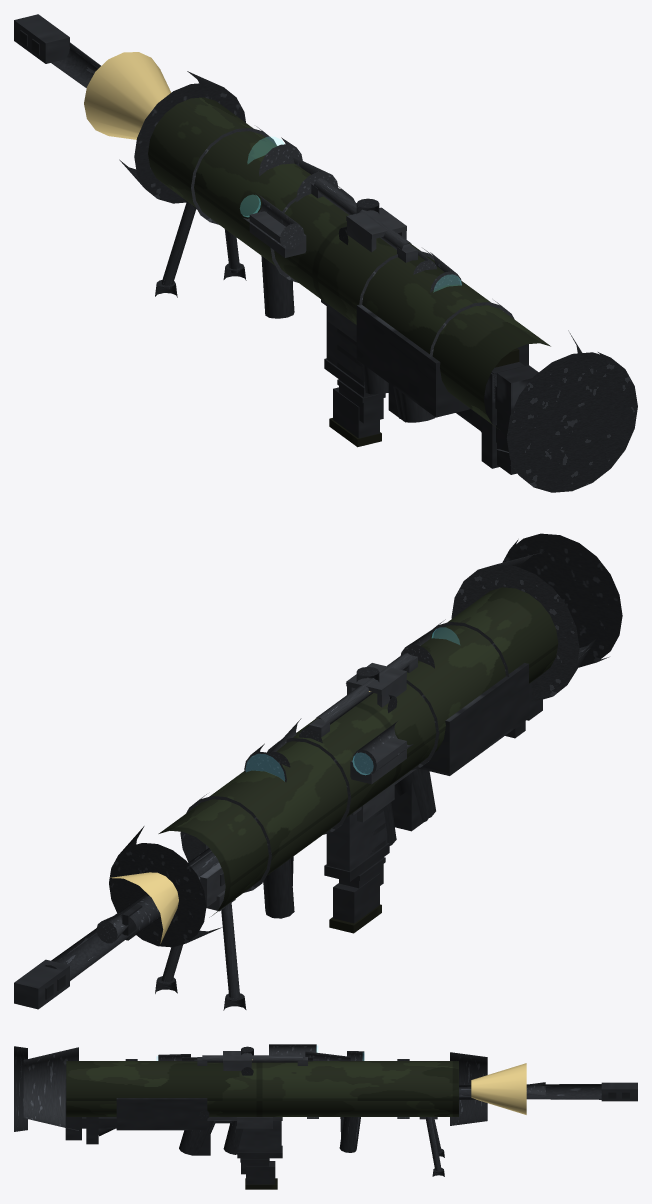
File: weapons_pack.glb
The picture shows the model from 3 angles, top to bottom: view 1: azimuth 30°, elevation 25°; view 2: azimuth 150°, elevation 25°; view 3: azimuth 270°, elevation 25°; orthographic projection. The views are drawn at different scales.
Parts seen in each view (by area): view 1: RL7_Launcher, SR9_Sniper, AR7_Carbine; view 2: RL7_Launcher, SR9_Sniper, AR7_Carbine; view 3: RL7_Launcher, SR9_Sniper, AR7_Carbine.
Boxes of the visible parts, left/top/right/bottom form: RL7_Launcher: left=84, top=52, right=637, bottom=492; SR9_Sniper: left=14, top=14, right=538, bottom=474; AR7_Carbine: left=292, top=207, right=524, bottom=468; RL7_Launcher: left=96, top=533, right=622, bottom=947; SR9_Sniper: left=14, top=628, right=542, bottom=1010; AR7_Carbine: left=120, top=663, right=525, bottom=940; RL7_Launcher: left=14, top=1044, right=545, bottom=1154; SR9_Sniper: left=65, top=1046, right=637, bottom=1176; AR7_Carbine: left=86, top=1051, right=476, bottom=1189.
Bounding box in the file's own units: 0.177 × 0.3 × 1.24.
9 materials, 5 textured.
